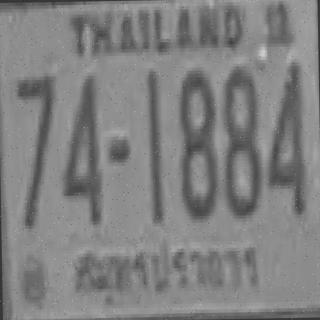N01: (146, 68, 161, 220)
N04: (59, 72, 100, 222), (264, 59, 304, 211)
N07: (14, 73, 55, 226)
N08: (220, 63, 260, 215), (177, 67, 216, 216)
P57: (67, 232, 266, 309)
